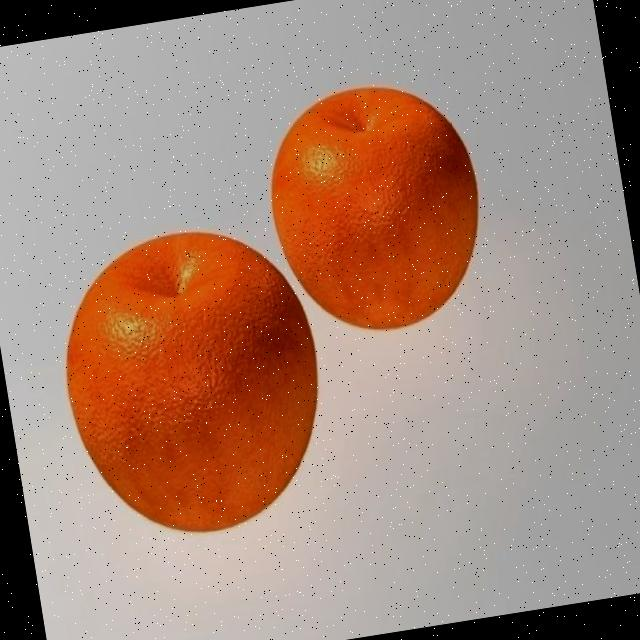orange: (40, 205, 344, 552), (251, 70, 499, 346)
